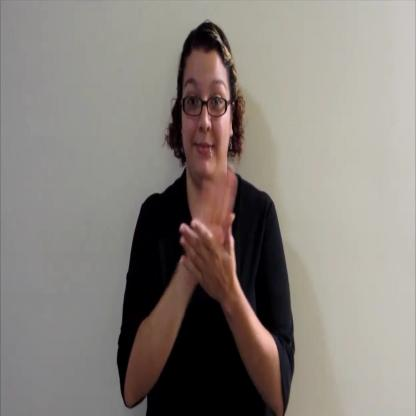NiceToMeetYou: (168, 156, 251, 315)
